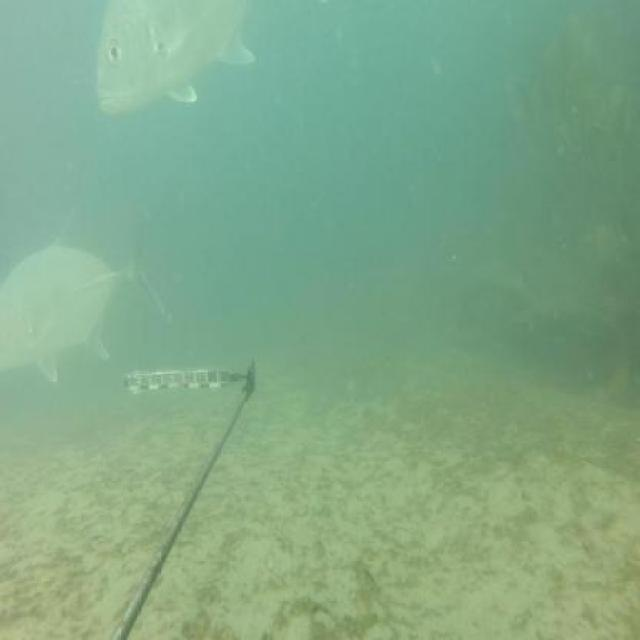Caranx: (2, 208, 169, 390), (93, 0, 258, 117)
